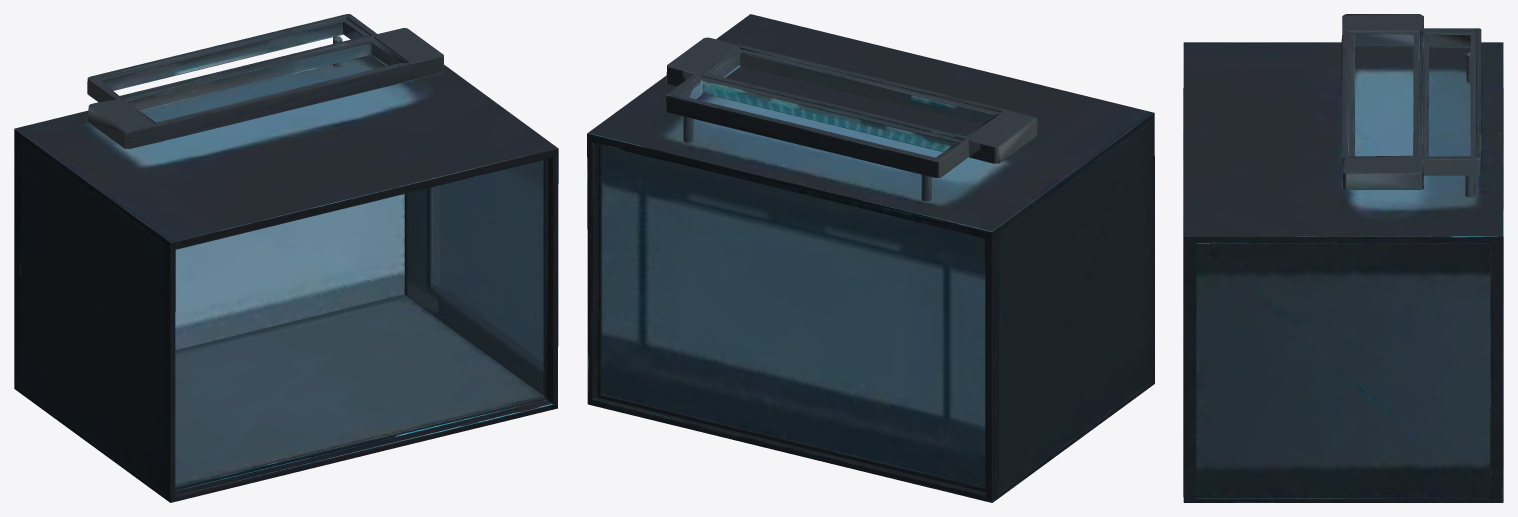
The model's file is TankFrame.glb.
3 renders of one model, left to right at view 1: azimuth 30°, elevation 25°; view 2: azimuth 150°, elevation 25°; view 3: azimuth 270°, elevation 25°, orthographic. The views are drawn at different scales.
Size of the model in its own units: 0.9429 by 0.7061 by 0.6567.
1 material, 1 textured.
